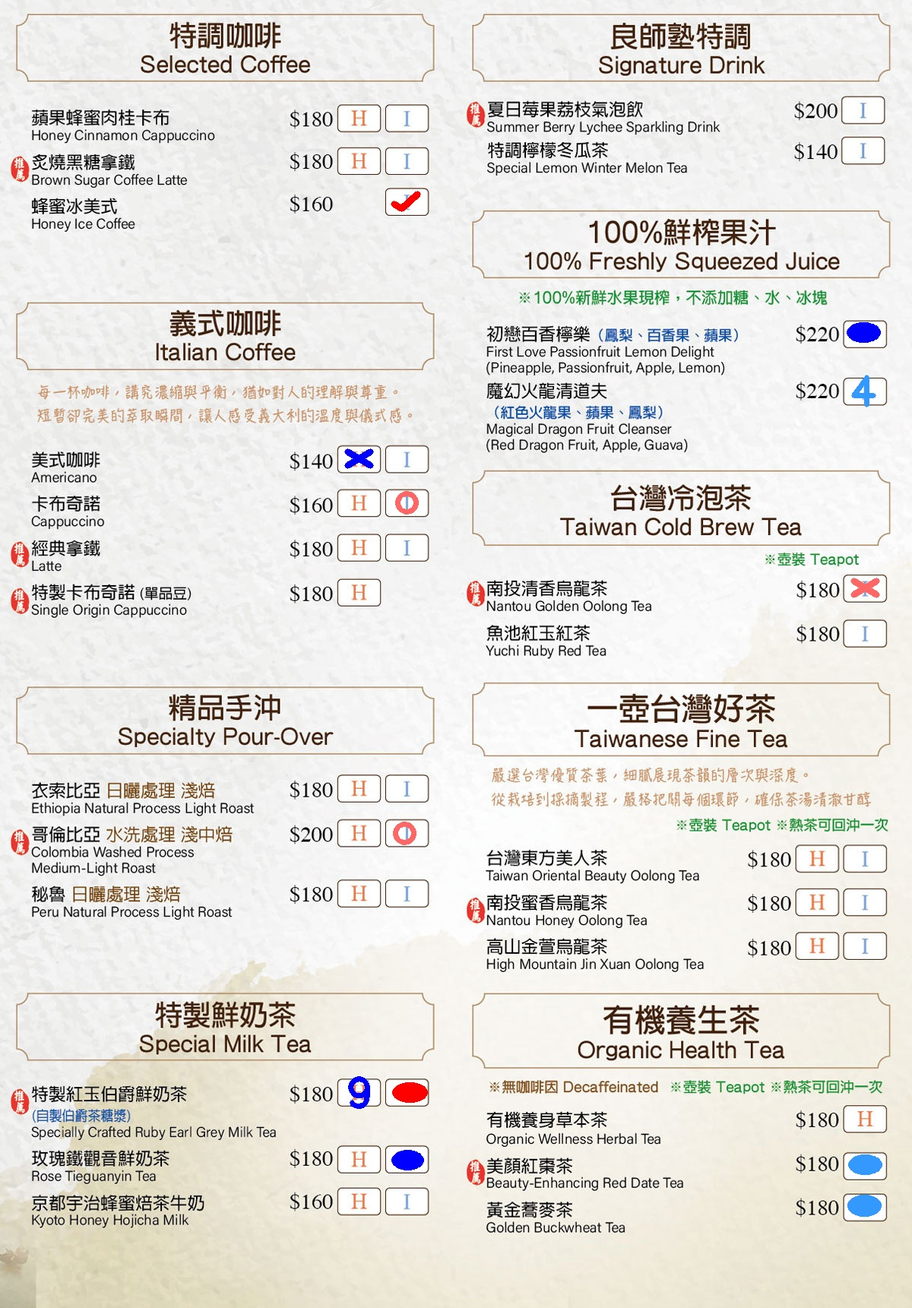marked_circle: (846, 1153, 885, 1177), (845, 321, 884, 345), (845, 1194, 884, 1218), (391, 1081, 429, 1104), (388, 1148, 426, 1171)
marked_hollow: (388, 491, 426, 515), (385, 822, 424, 845)
marked_number_4: (845, 378, 884, 402)
marked_number_9: (342, 1080, 381, 1104)
marked_tick: (387, 190, 426, 214)
marked_x: (846, 576, 885, 600), (340, 447, 378, 470)
